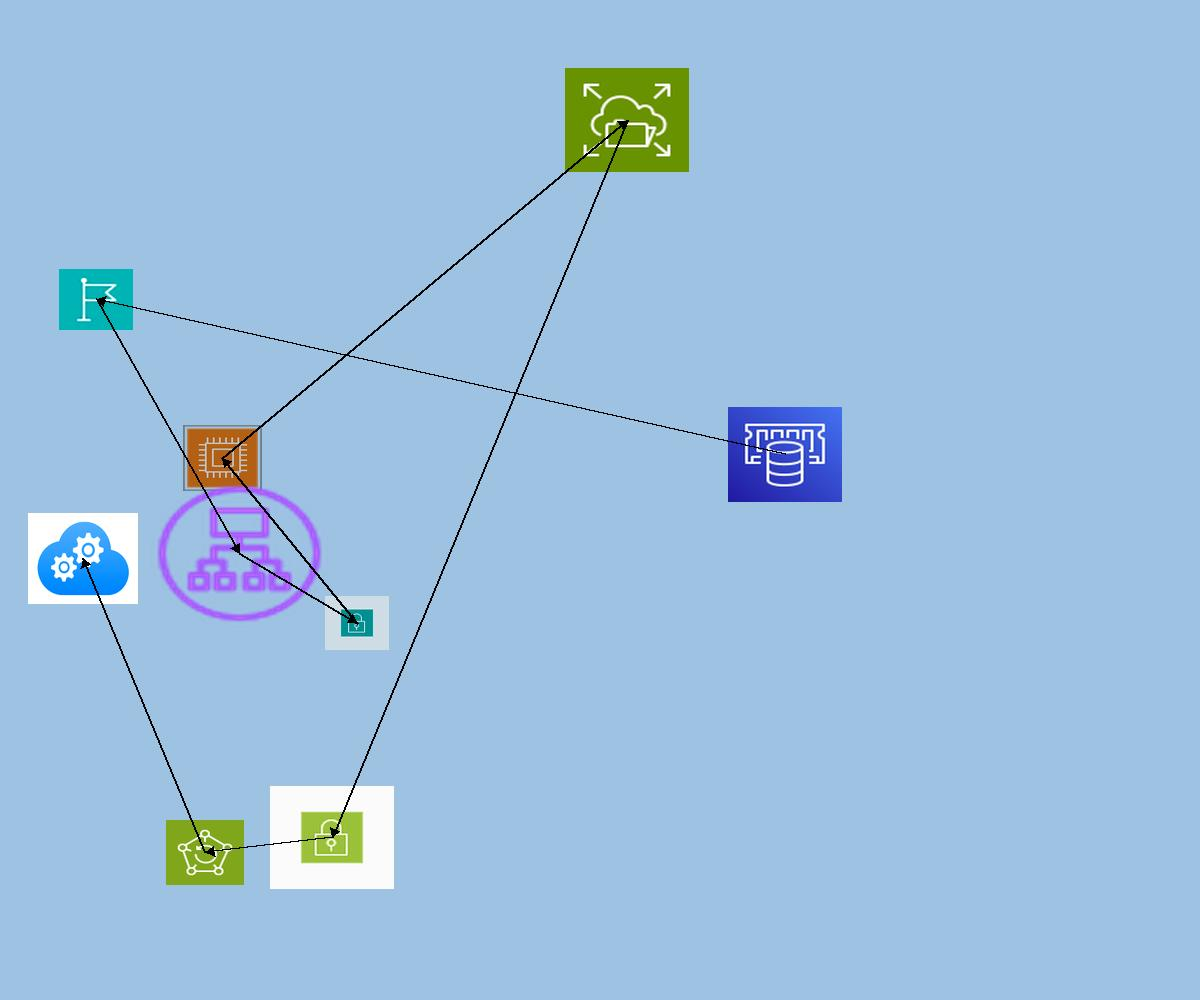AWS-Backup: (166, 820, 244, 885)
AWS-Category_Compute: (183, 425, 262, 491)
AWS-EFS: (565, 68, 689, 172)
AWS-ElastiCache: (728, 407, 842, 502)
AWS-Private-subnet: (325, 596, 389, 650)
AWS-Public-subnet: (270, 786, 394, 889)
AWS-Region: (59, 269, 133, 330)
AWS-Res_Elastic-Load-Balancing_Application-Load-Balancer: (151, 480, 328, 627)
Azure_cloud_services: (28, 513, 138, 604)
